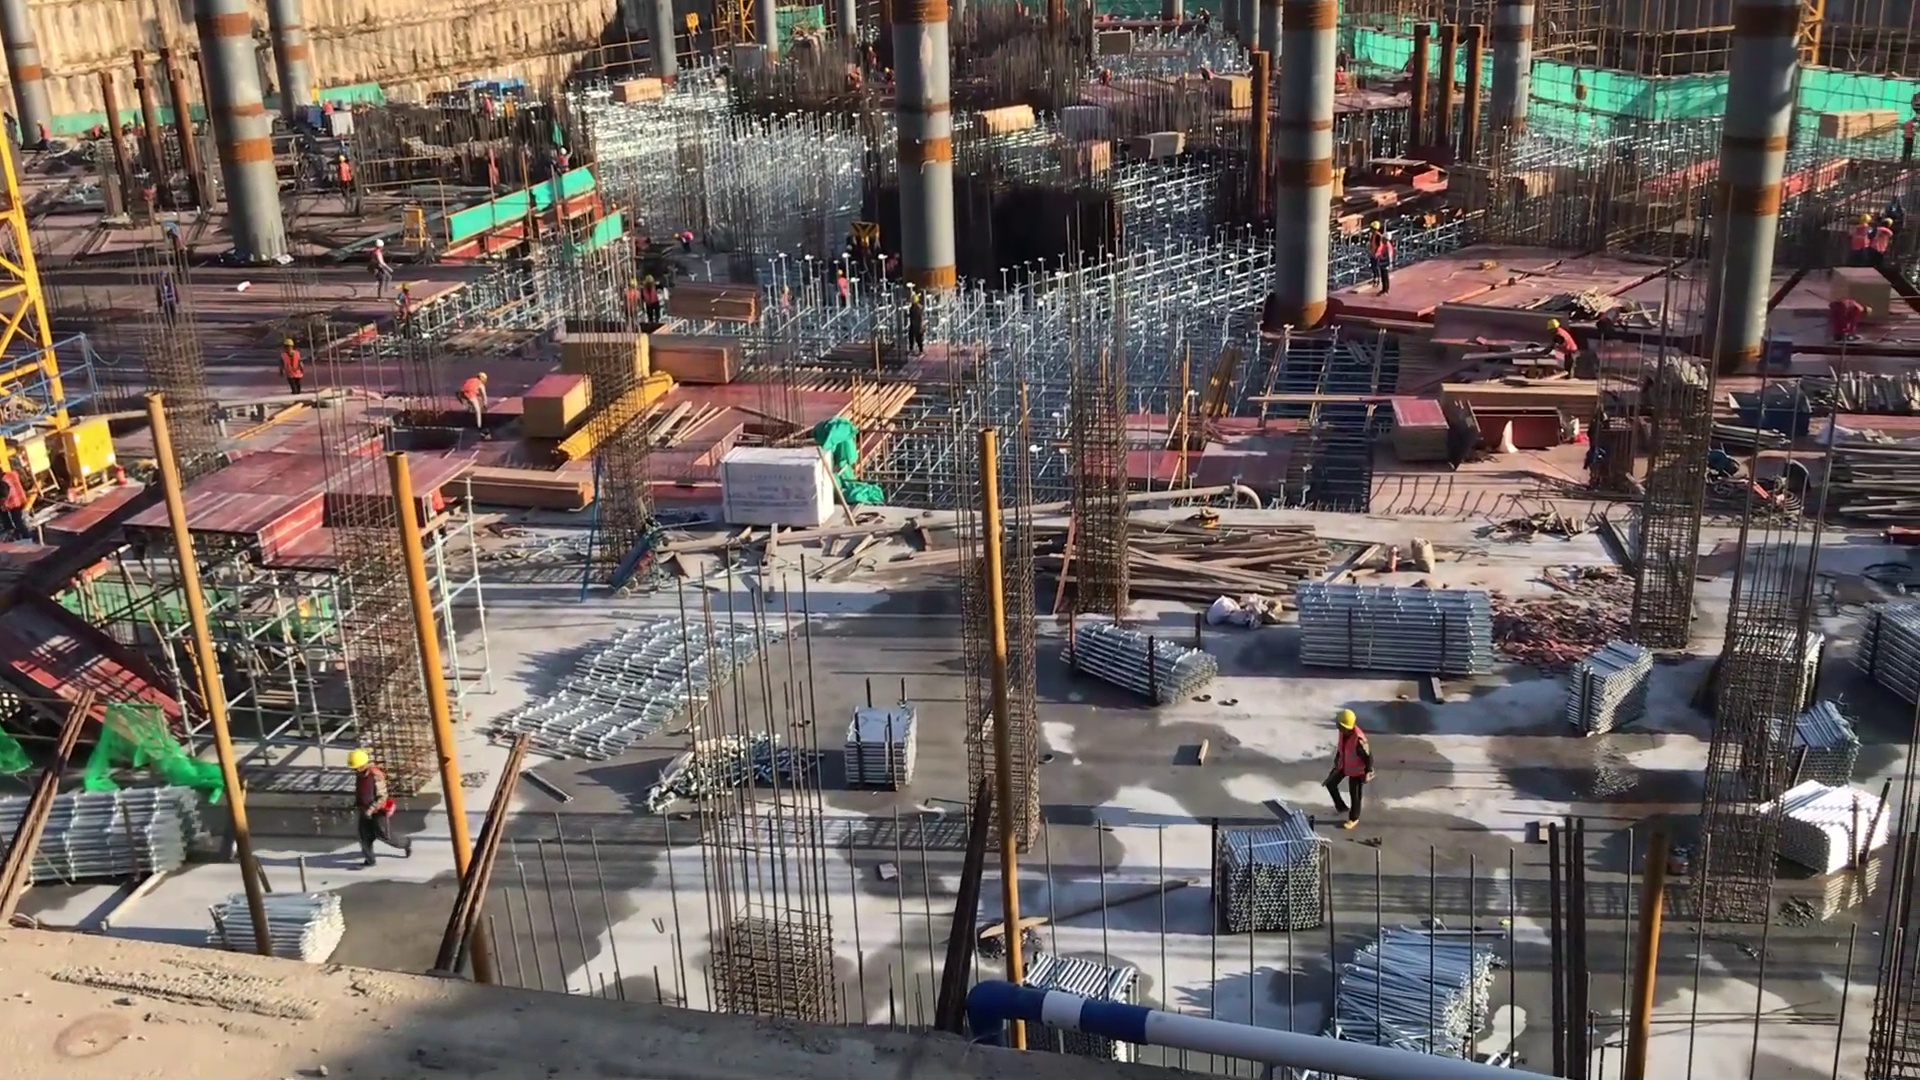helmet: (1334, 703, 1359, 742), (346, 748, 377, 775), (1545, 316, 1563, 334), (1856, 210, 1873, 227), (283, 337, 298, 355), (908, 293, 923, 308), (643, 273, 658, 287), (1381, 230, 1394, 245), (1368, 218, 1379, 234), (474, 370, 490, 380), (559, 145, 570, 158), (377, 235, 386, 247), (340, 153, 347, 166), (672, 231, 681, 241)
person: (336, 745, 419, 879), (1322, 704, 1376, 831), (1539, 313, 1582, 379), (1827, 291, 1875, 349), (456, 367, 495, 441), (274, 335, 311, 402), (1, 459, 29, 541), (1206, 70, 1258, 113), (164, 217, 193, 279), (368, 240, 395, 304), (906, 294, 930, 363), (395, 283, 421, 348), (1853, 206, 1875, 277), (642, 274, 666, 332), (622, 277, 644, 337), (1898, 106, 1920, 162), (1872, 213, 1893, 273), (154, 277, 179, 325), (834, 271, 860, 317), (337, 152, 356, 210), (673, 227, 699, 266), (1378, 232, 1395, 290), (1365, 221, 1382, 279), (553, 142, 576, 183), (884, 250, 907, 286), (318, 97, 338, 133), (36, 119, 51, 158)
vest: (1333, 731, 1372, 788), (355, 766, 394, 819), (3, 468, 30, 514), (281, 348, 308, 384), (1551, 329, 1580, 357), (1836, 295, 1864, 322), (461, 379, 486, 409), (154, 282, 176, 312), (1854, 220, 1871, 253), (1872, 226, 1891, 253)
